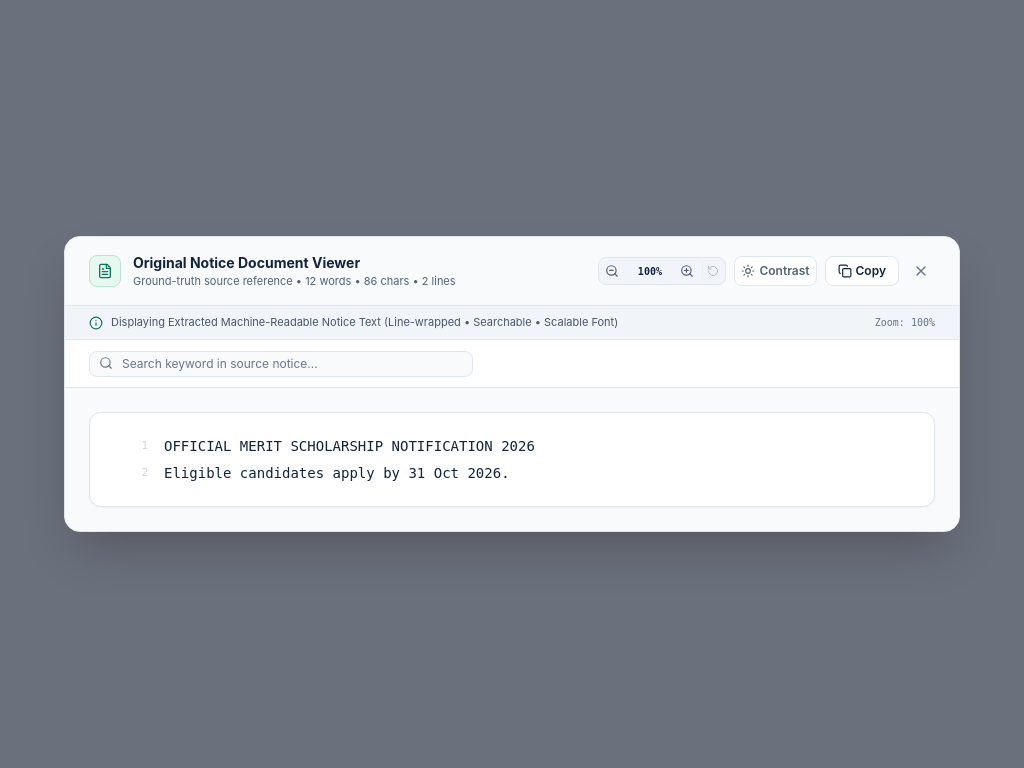
Test: OriginalNoticeViewerModal Component › filters text with the search input
This screenshot has width=1024, height=768.
Type "SCHOLARSHIP" into the field with placeholder "Search keyword in source notice...".
click(281, 364); type("SCHOLARSHIP")  # box top-left (89, 351), bottom-right (473, 377)
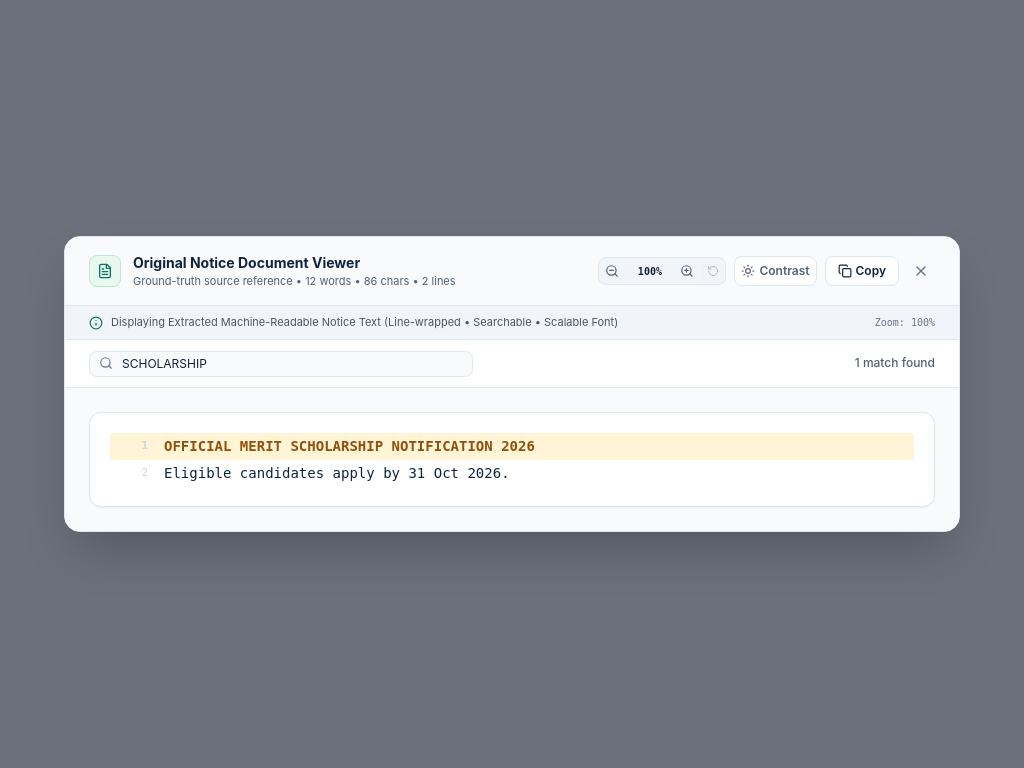
Expected: the text "1 match found" is shown, top-left (855, 355), bottom-right (935, 371)
